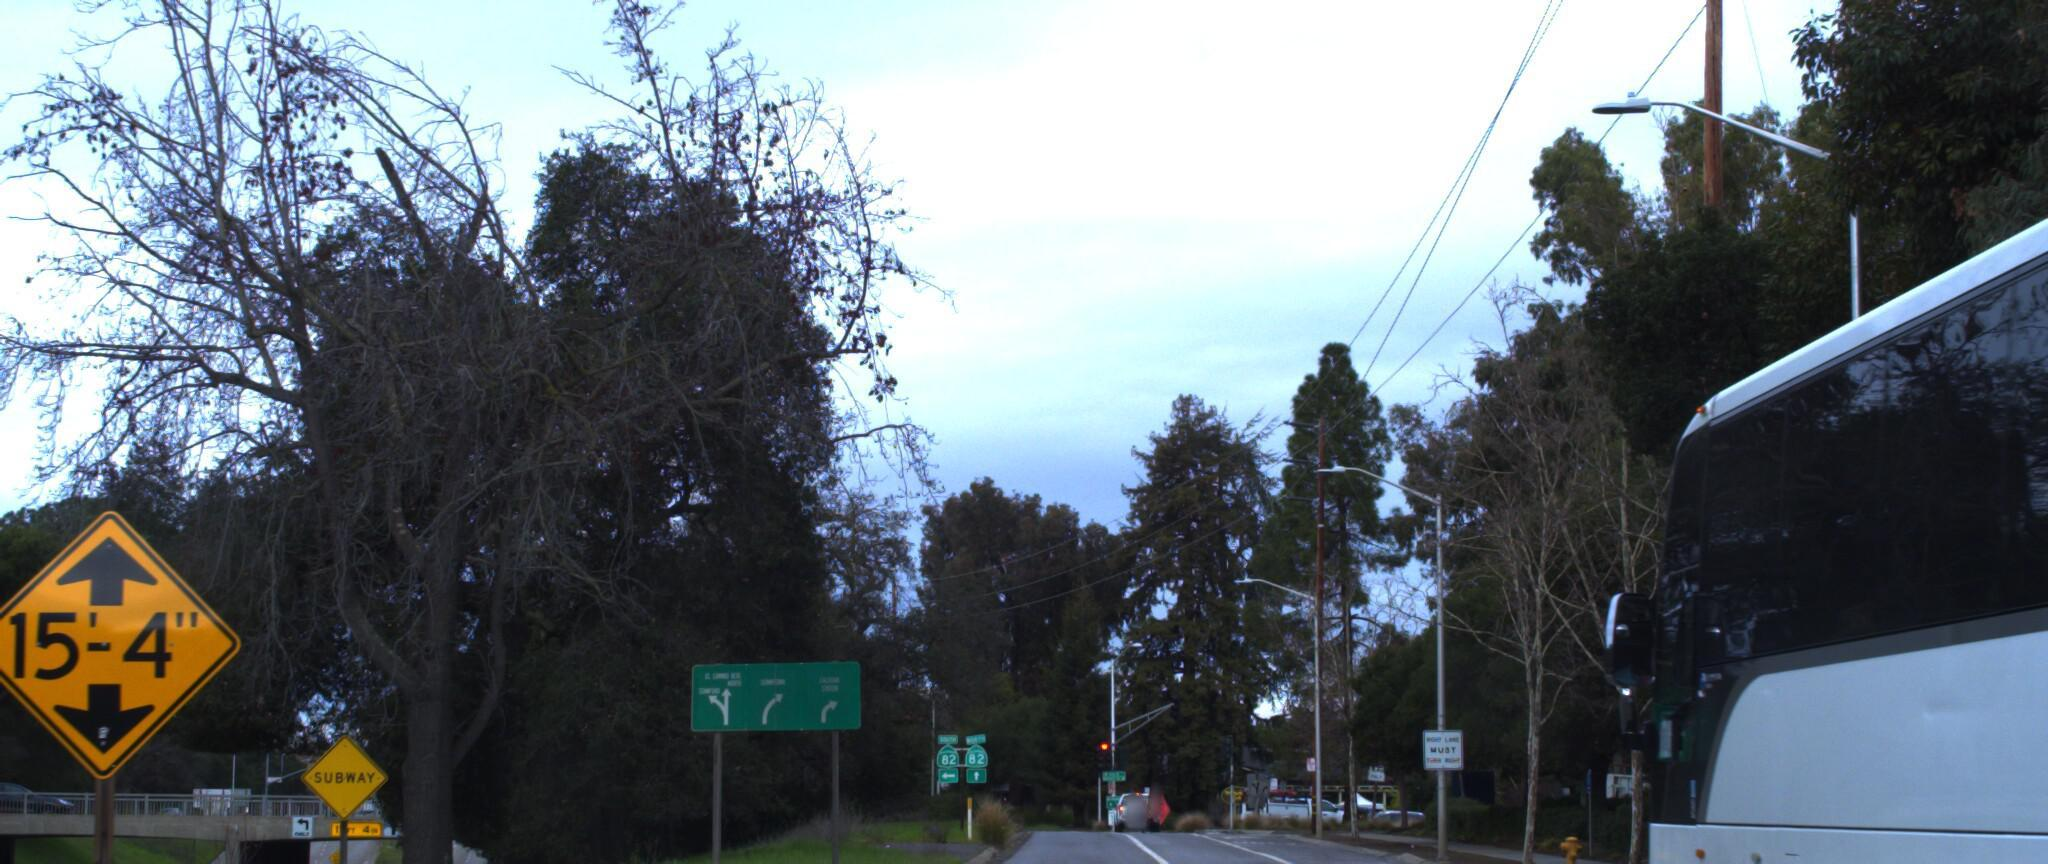bus: (1592, 0, 2048, 864)
car: (69, 850, 189, 864)
